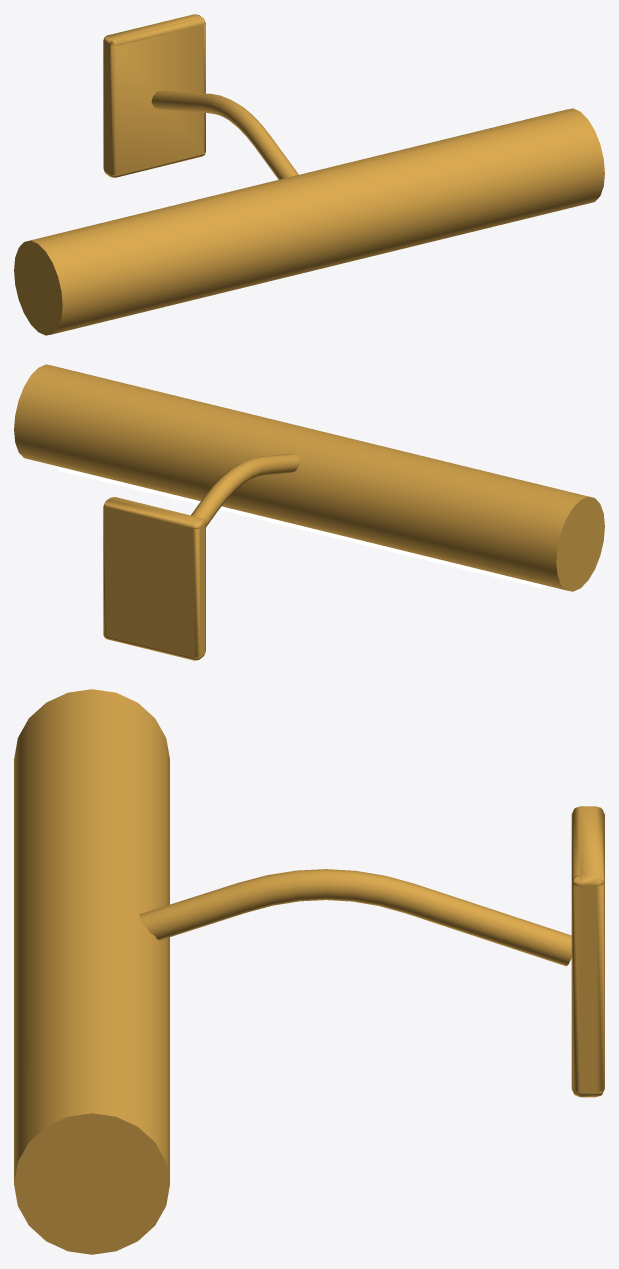
File: picture_light.glb
3 renders of one model, top to bottom at view 1: azimuth 30°, elevation 25°; view 2: azimuth 150°, elevation 25°; view 3: azimuth 270°, elevation 25°, orthographic. The views are drawn at different scales.
Visible parts, largest first — view 1: PictureLightMesh; view 2: PictureLightMesh, Light_Strip; view 3: PictureLightMesh.
Part boxes in pixels (x1=…): PictureLightMesh: x1=14, y1=14, x2=604, y2=335; PictureLightMesh: x1=14, y1=364, x2=604, y2=660; Light_Strip: x1=54, y1=465, x2=547, y2=587; PictureLightMesh: x1=14, y1=689, x2=604, y2=1254.
Size of the model in its own units: 0.9 by 0.22 by 0.53.
